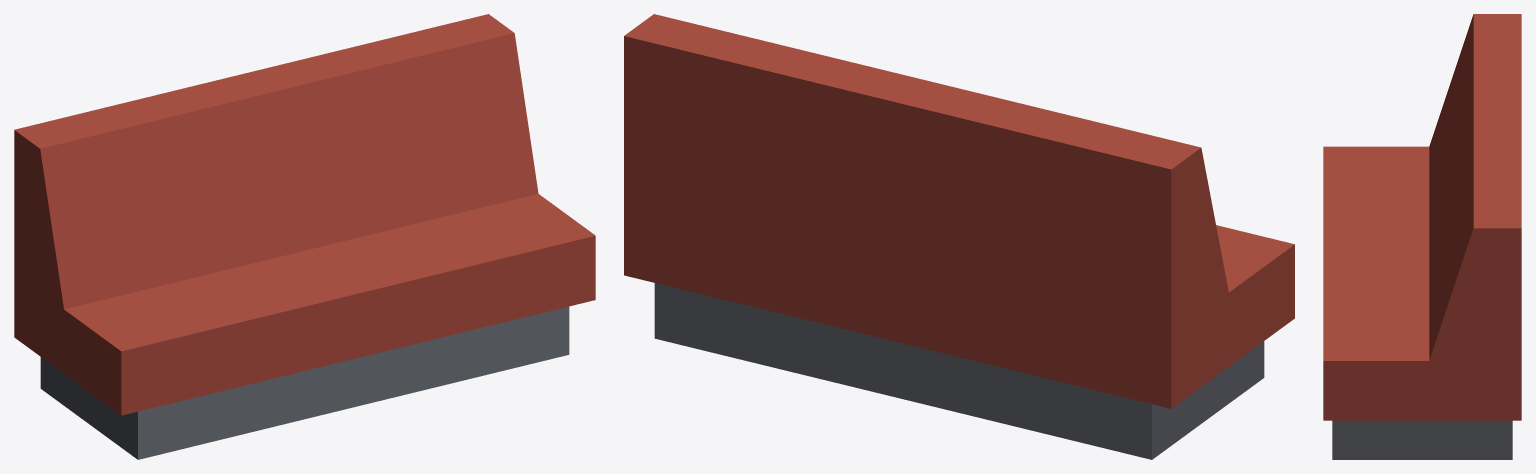
The model's file is AI_Prop_Bar_Chair.fbx.
3 renders of one model, left to right at view 1: azimuth 30°, elevation 25°; view 2: azimuth 150°, elevation 25°; view 3: azimuth 270°, elevation 25°, orthographic. The views are drawn at different scales.
Visible parts, largest first — view 1: AI_Prop_Bar_Chair; view 2: AI_Prop_Bar_Chair; view 3: AI_Prop_Bar_Chair.
Part boxes in pixels (x1,y1,x2,y2): AI_Prop_Bar_Chair: (14,14,595,459); AI_Prop_Bar_Chair: (624,14,1294,459); AI_Prop_Bar_Chair: (1323,14,1521,459).
Bounding box in the file's own units: 3.28 × 1.72 × 1.28.
